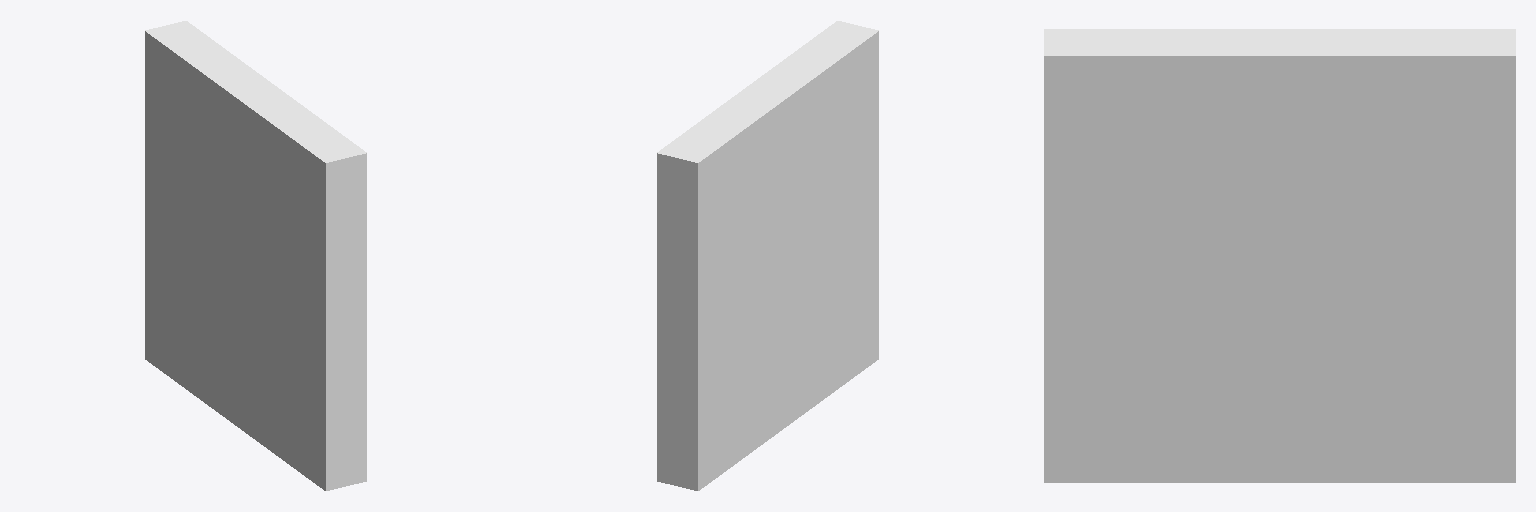
URDF robot description (agv):
<?xml version="1.0" ?>
<!-- =================================================================================== -->
<!-- |    This document was autogenerated by xacro from agv.xacro                      | -->
<!-- |    EDITING THIS FILE BY HAND IS NOT RECOMMENDED                                 | -->
<!-- =================================================================================== -->
<robot name="agv" xmlns:xacro="http://www.ros.org/wiki/xacro">
  <!-- in kg-->
  <!-- Definition des couleurs de l'AGV -->
  <material name="Black">
    <color rgba="0.0 0.0 0.0 1.0"/>
  </material>
  <material name="Red">
    <color rgba="0.8 0.0 0.0 1.0"/>
  </material>
  <material name="White">
    <color rgba="1.0 1.0 1.0 1.0"/>
  </material>
  <material name="Blue">
    <color rgba="0.0 0.0 0.8 1.0"/>
  </material>
  <!-- in kg-->
  <!-- Wheels -->
   --&gt; 
  <!-- in kg-->
  <!-- BASE-FOOTPRINT -->
  <!-- base_footprint is a fictitious link(frame) that is on the ground right below base_link origin -->
  <link name="base_footprint">
    <inertial>
      <mass value="0.0001"/>
      <origin xyz="0 0 0"/>
      <inertia ixx="0.0001" ixy="0.0" ixz="0.0" iyy="0.0001" iyz="0.0" izz="0.0001"/>
    </inertial>
    <visual>
      <origin rpy="0 0 0" xyz="0 0 0"/>
      <geometry>
        <box size="0.001 0.001 0.001"/>
      </geometry>
    </visual>
  </link>
  <gazebo reference="base_footprint">
    <turnGravityOff>false</turnGravityOff>
  </gazebo>
  <joint name="base_footprint_joint" type="fixed">
    <origin rpy="0 0 0" xyz="0 0 0.04"/>
    <parent link="base_footprint"/>
    <child link="base_link"/>
  </joint>
  <!-- BASE-LINK -->
  <!--Actual body/chassis of the robot-->
  <link name="base_link">
    <inertial>
      <mass value="5"/>
      <origin xyz="0 0 0"/>
      <inertia ixx="0.01875" ixy="0" ixz="0" iyy="0.00954166666667" iyz="0" izz="0.00954166666667"/>
    </inertial>
    <visual>
      <origin rpy="0 0 0" xyz="0 0 0"/>
      <geometry>
        <box size="0.02 0.15 0.15"/>
      </geometry>
      <material name="White"/>
    </visual>
    <collision>
      <origin rpy="0 0 0 " xyz="0 0 0"/>
      <geometry>
        <box size="0.02 0.15 0.15"/>
      </geometry>
    </collision>
  </link>
  <gazebo reference="base_link">
    <material>Gazebo/White</material>
    <turnGravityOff>false</turnGravityOff>
  </gazebo>
</robot>

--- Facts derived from the render (not from the file) ---
The picture shows the robot from 3 angles, left to right: view 1: azimuth 30°, elevation 25°; view 2: azimuth 150°, elevation 25°; view 3: azimuth 270°, elevation 25°; orthographic projection.
Model agv with 2 links and 1 joints (1 fixed), rooted at base_footprint, posed all joints at 0.
Links seen in each view (by area): view 1: base_link; view 2: base_link; view 3: base_link.
Boxes of the visible links, x1,y1,x2,y2 form: base_link: (145,21,366,490); base_link: (657,21,878,490); base_link: (1044,29,1515,482).
Bounding box of the posed robot: 0.02 × 0.15 × 0.15 m (x, y, z).
Geometry: primitives only (box / cylinder / sphere), no mesh files.